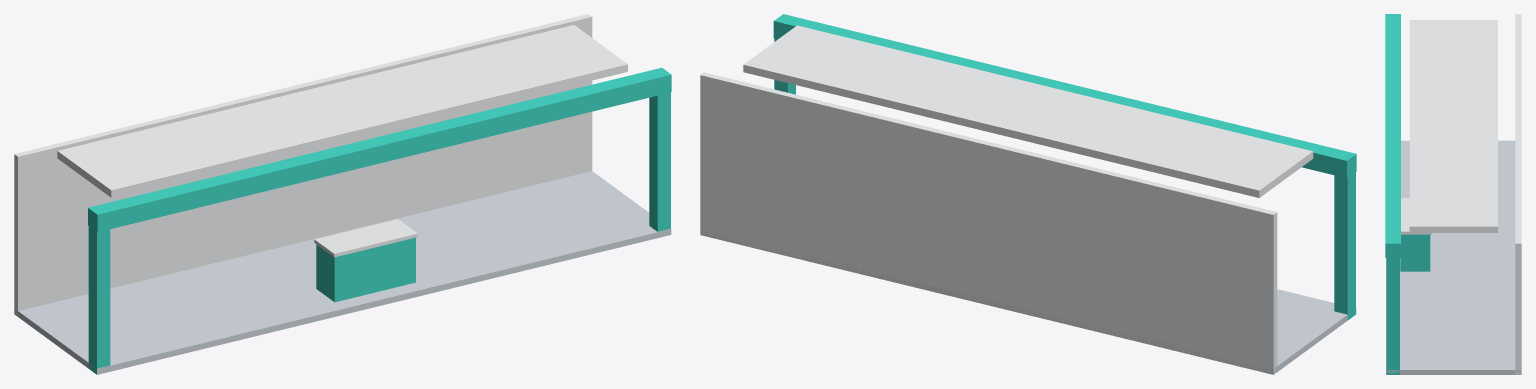
3 views of the same model, side by side, from view 1: azimuth 30°, elevation 25°; view 2: azimuth 150°, elevation 25°; view 3: azimuth 270°, elevation 25° (orthographic). The views are drawn at different scales.
Parts seen in each view (by area): view 1: Exhibition Booth Concept; view 2: Exhibition Booth Concept; view 3: Exhibition Booth Concept.
Boxes of the visible parts, x1=… form: Exhibition Booth Concept: x1=14, y1=14, x2=671, y2=374; Exhibition Booth Concept: x1=700, y1=14, x2=1356, y2=374; Exhibition Booth Concept: x1=1385, y1=14, x2=1521, y2=374.
Size of the model in its own units: 12 by 3.34 by 3.01.
